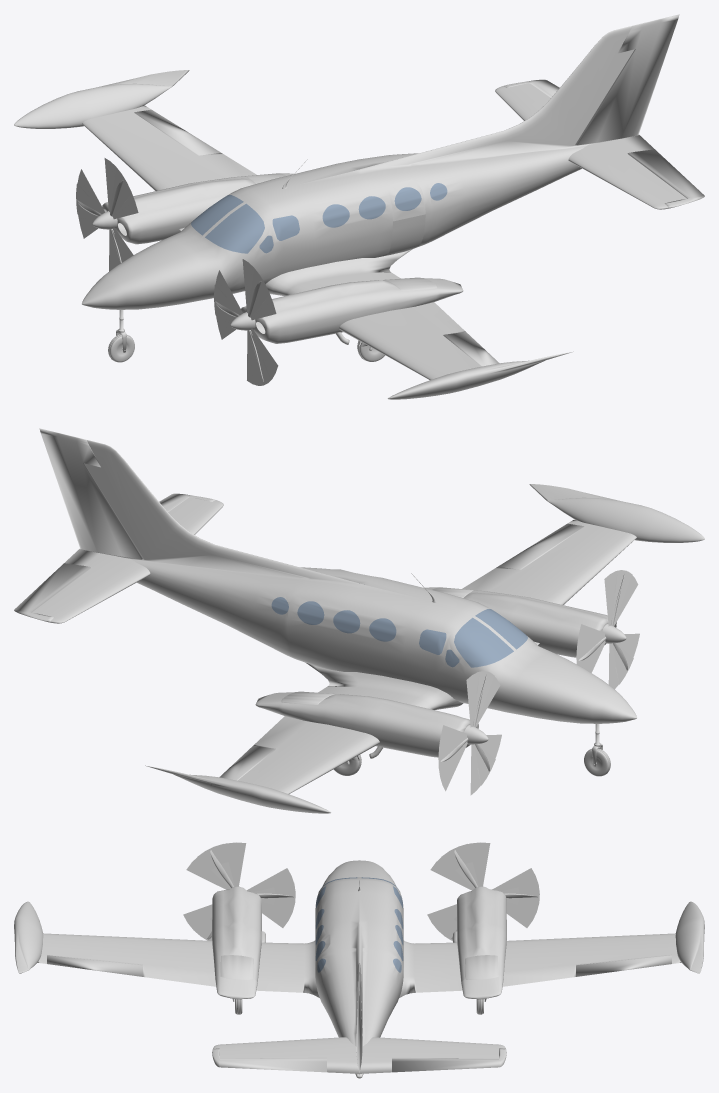
Rendered from Cessna-421-Golden-Eagle_c421.glb.
3 views of the same model, one above another, from view 1: azimuth 30°, elevation 25°; view 2: azimuth 150°, elevation 25°; view 3: azimuth 270°, elevation 25° (orthographic). The views are drawn at different scales.
Visible parts, largest first — view 1: airframe; view 2: airframe; view 3: airframe.
Part boxes in pixels (x1,y1,x2,y2): airframe: (14,14,704,399); airframe: (14,428,704,813); airframe: (14,842,704,1078).
Bounding box in the file's own units: 11.02 × 3.72 × 12.47.
